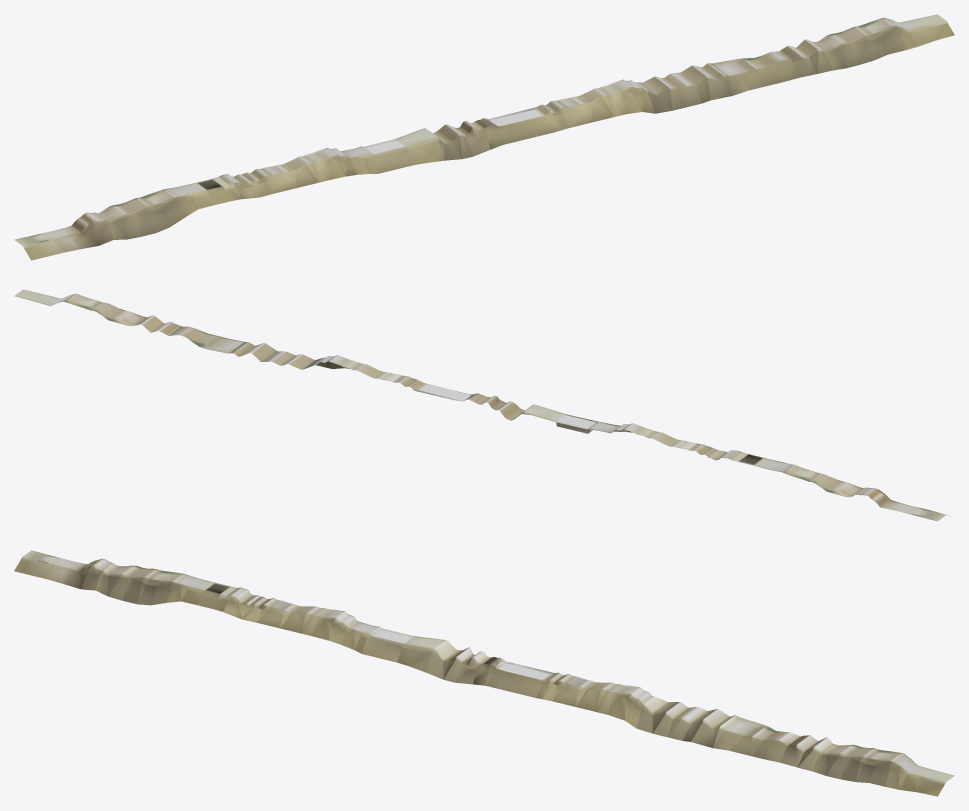
Rendered from Beach_11.fbx.
The picture shows the model from 3 angles, top to bottom: view 1: azimuth 30°, elevation 25°; view 2: azimuth 150°, elevation 25°; view 3: azimuth 330°, elevation 25°; orthographic projection.
Parts seen in each view (by area): view 1: Road_01, Sea_01; view 2: Road_01, Sea_01; view 3: Road_01, Sea_01.
Boxes of the visible parts, x1,y1,x2,y2 form: Road_01: [14, 14, 954, 260]; Sea_01: [365, 110, 541, 153]; Road_01: [14, 289, 949, 521]; Sea_01: [419, 384, 595, 428]; Road_01: [14, 550, 954, 796]; Sea_01: [373, 629, 549, 679].
Bounding box in the file's own units: 82556 × 2512 × 3765.
